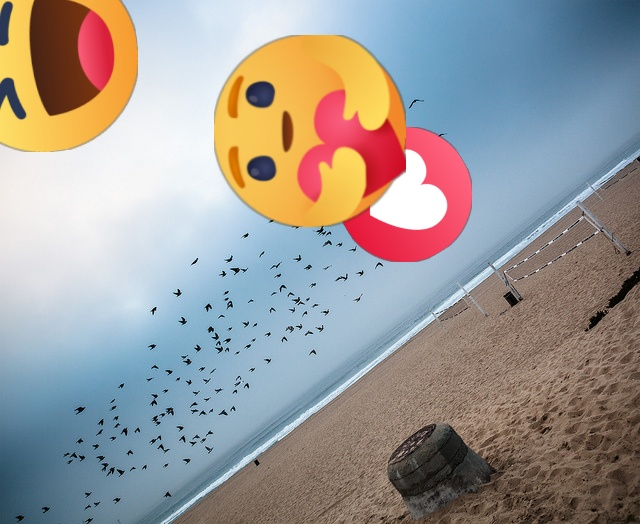care: (214, 35, 406, 227)
haha: (0, 0, 138, 152)
love: (337, 127, 472, 262)
